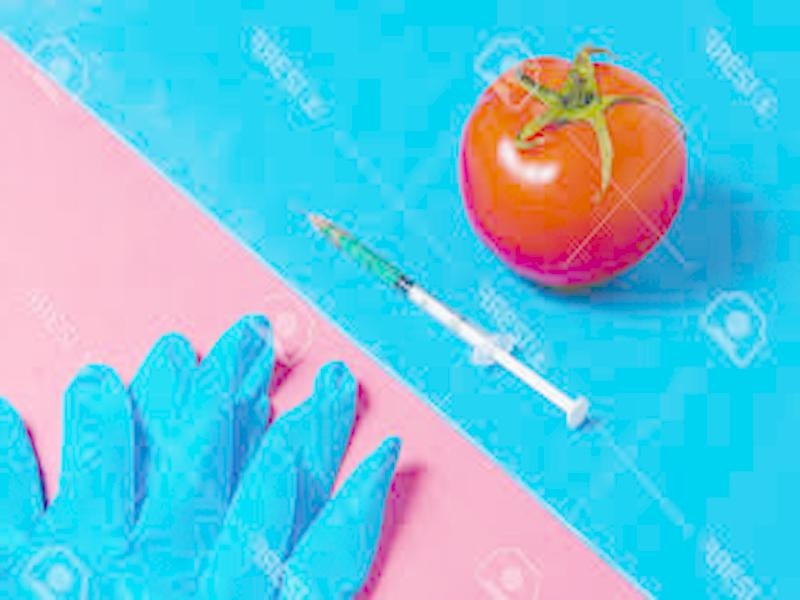Tomato: (459, 59, 683, 289)
